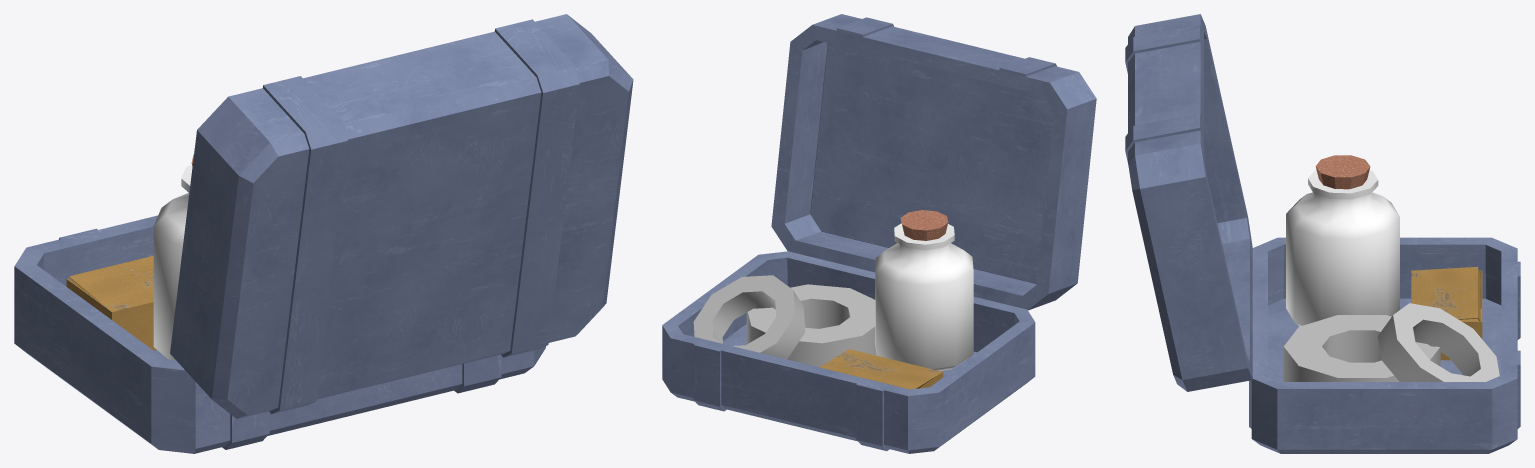
File: RecoveryKit.fbx
The picture shows the model from 3 angles, left to right: view 1: azimuth 30°, elevation 25°; view 2: azimuth 150°, elevation 25°; view 3: azimuth 270°, elevation 25°; orthographic projection. The views are drawn at different scales.
Parts seen in each view (by area): view 1: 立方体, 立方体.001, 立方体.004, 円柱; view 2: 立方体, 円柱, 円柱.003, 立方体.001, 立方体.004, 円柱.002; view 3: 立方体, 円柱, 円柱.003, 立方体.001, 立方体.004, 円柱.002.
Boxes of the visible parts, left/top/right/bottom form: 立方体: left=14, top=14, right=633, bottom=453; 立方体.001: left=59, top=19, right=579, bottom=449; 立方体.004: left=66, top=256, right=156, bottom=350; 円柱: left=153, top=164, right=192, bottom=360; 立方体: left=662, top=14, right=1096, bottom=453; 円柱: left=875, top=223, right=973, bottom=370; 円柱.003: left=693, top=275, right=876, bottom=367; 立方体.001: left=693, top=17, right=1056, bottom=450; 立方体.004: left=819, top=349, right=943, bottom=389; 円柱.002: left=900, top=210, right=948, bottom=240; 立方体: left=1128, top=14, right=1517, bottom=453; 円柱: left=1286, top=169, right=1399, bottom=326; 円柱.003: left=1283, top=303, right=1499, bottom=381; 立方体.001: left=1125, top=24, right=1520, bottom=428; 立方体.004: left=1411, top=266, right=1482, bottom=360; 円柱.002: left=1315, top=155, right=1370, bottom=189.
Bounding box in the file's own units: 108 × 103 × 119.
